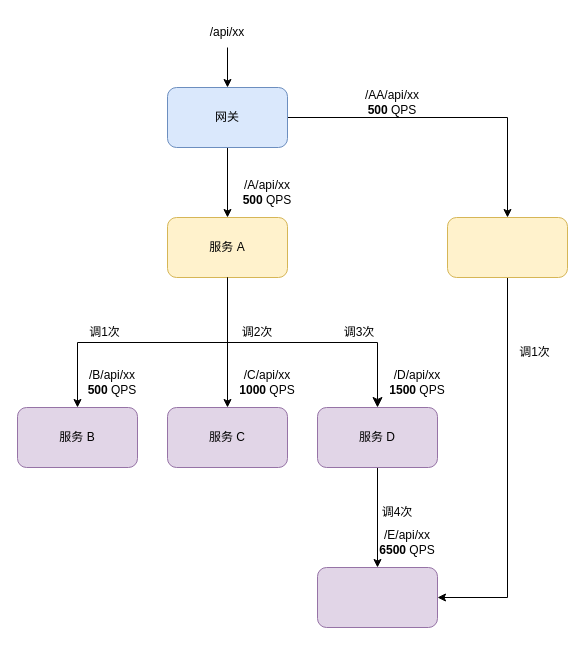
The diagram is 585 pixels wide and 645 high, and some of its shapes have lost their labels. Each missing label, with the box of its shape:
服务 AA: (446, 216, 568, 278)
服务 E: (316, 566, 438, 628)
